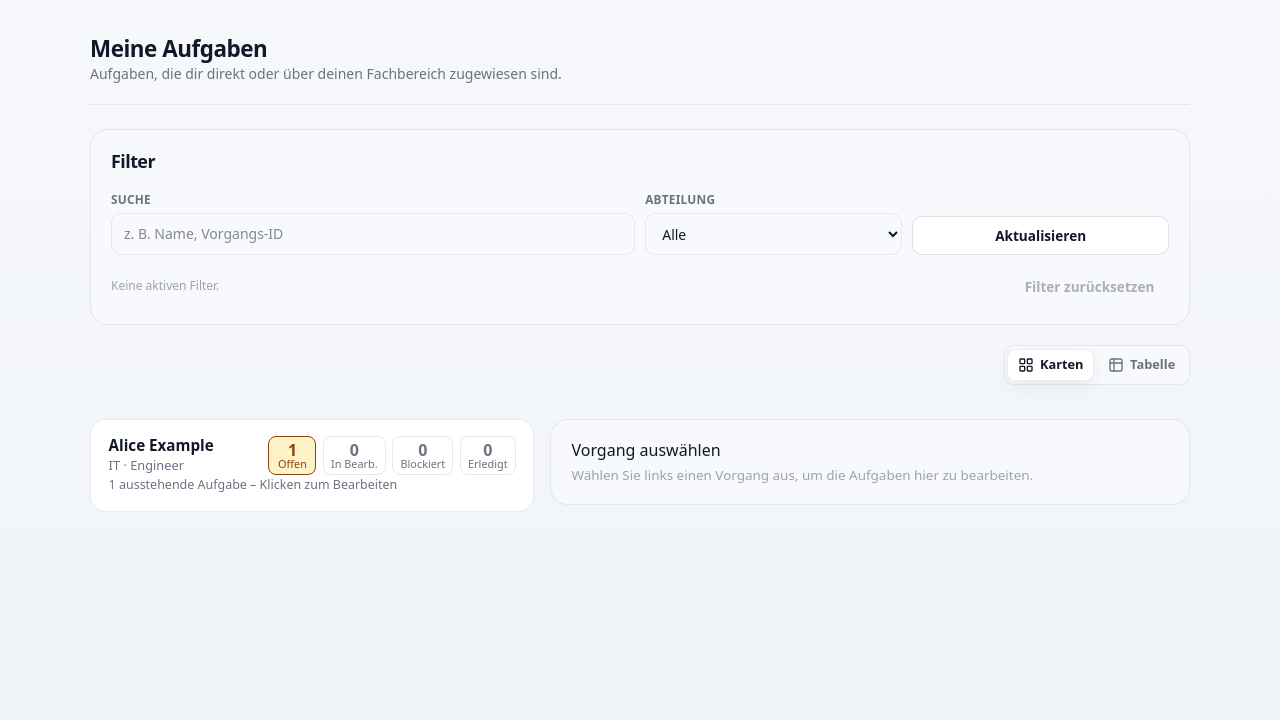
Test case: MyTasksPage › offers a table mode for workflow task summaries
Expected: the element named "Vorgänge mit Aufgaben" is shown, 90,419 -> 534,512
Click the button "Tabelle": (1142, 365) 1098,349 -> 1186,381
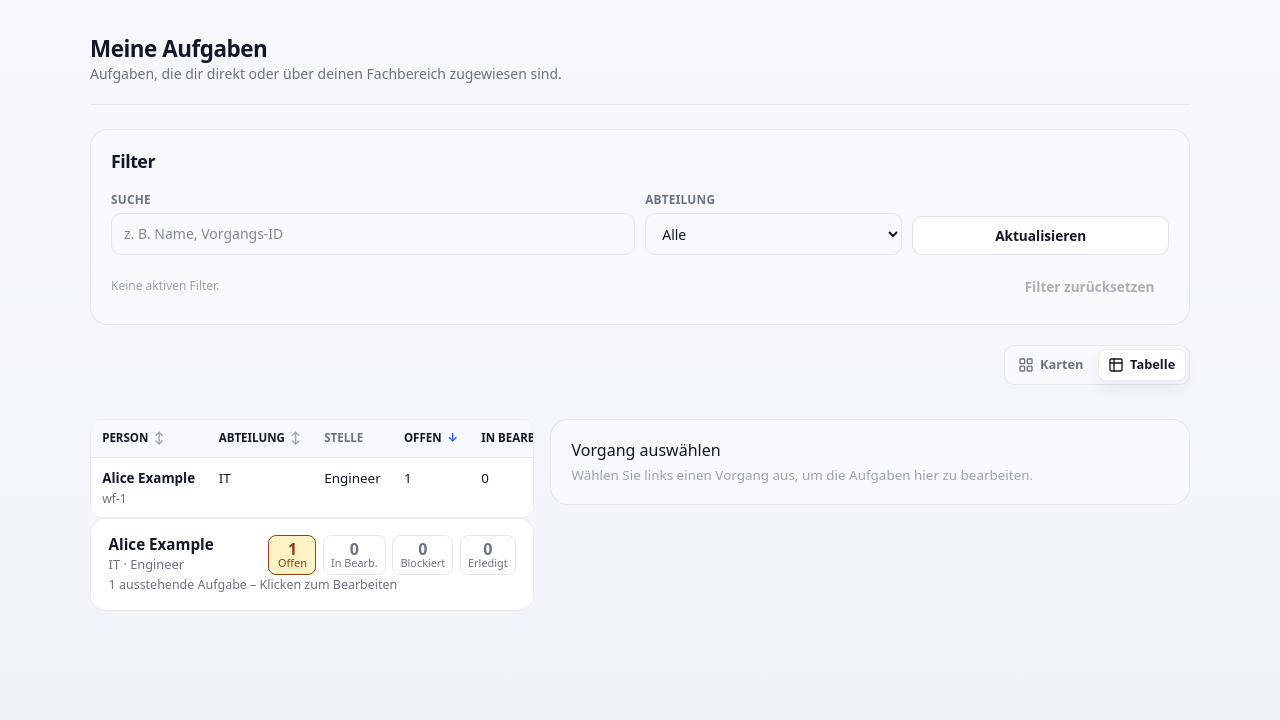
Result: the button "Offen" is shown at 404,429 -> 458,448
